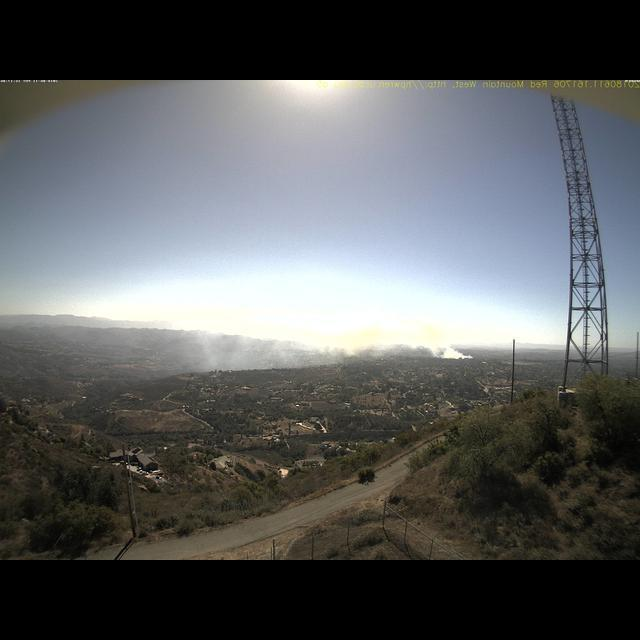Smoke: (201, 324, 470, 366)
